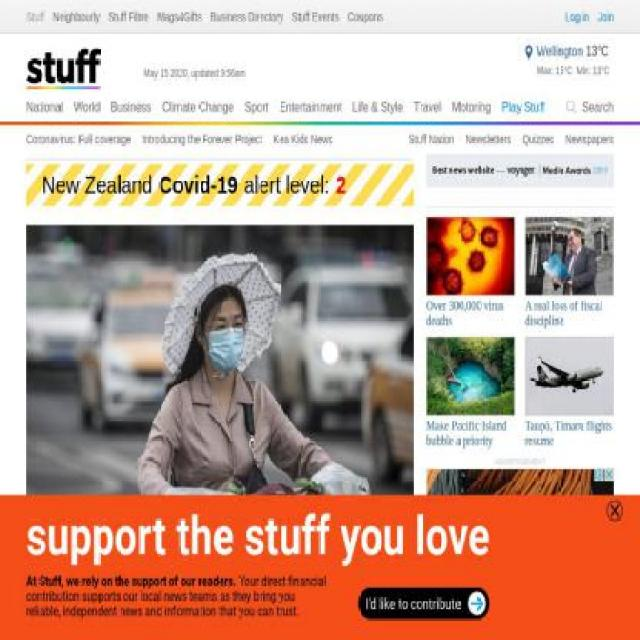button: (26, 225, 414, 524), (358, 587, 490, 619), (157, 91, 238, 124), (274, 91, 346, 124), (348, 91, 408, 124), (497, 91, 549, 124), (426, 457, 614, 466), (106, 91, 156, 124), (447, 91, 496, 124), (26, 91, 68, 124), (409, 91, 446, 124), (69, 91, 105, 124), (240, 91, 274, 124), (565, 10, 589, 24), (607, 500, 622, 522), (597, 10, 614, 24), (525, 44, 537, 62)
